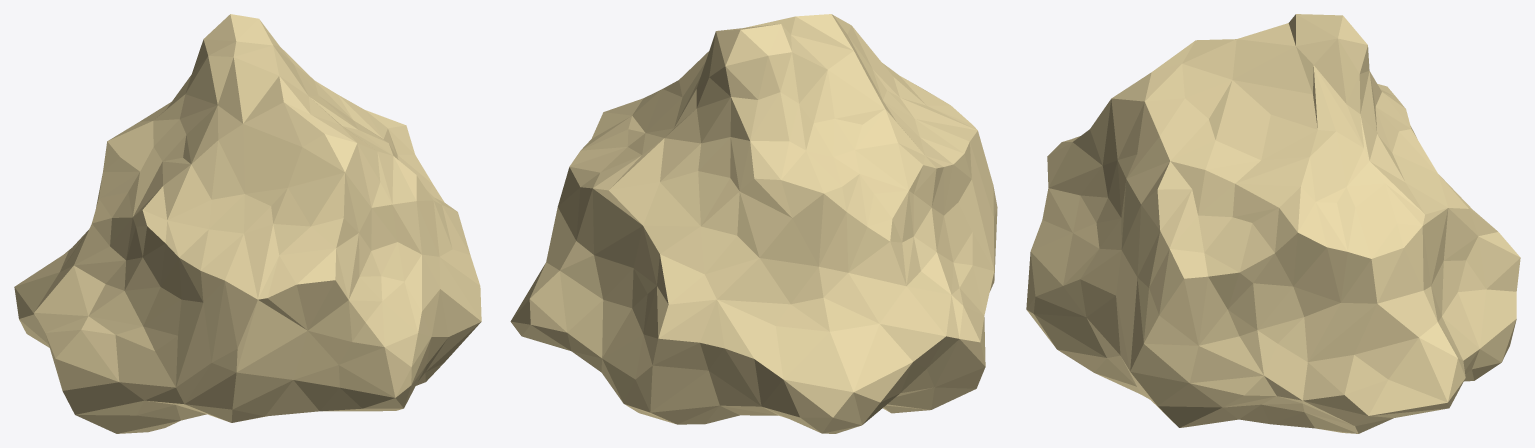
Rendered from Asteroid (7).fbx.
The picture shows the model from 3 angles, left to right: view 1: azimuth 30°, elevation 25°; view 2: azimuth 150°, elevation 25°; view 3: azimuth 270°, elevation 25°; orthographic projection. The views are drawn at different scales.
Visible parts, largest first — view 1: Asteroid145; view 2: Asteroid145; view 3: Asteroid145.
Part boxes in pixels (x1,y1,x2,y2): Asteroid145: (14, 14, 481, 433); Asteroid145: (510, 14, 997, 433); Asteroid145: (1026, 14, 1520, 433).
Size of the model in its own units: 234 by 211 by 248.
